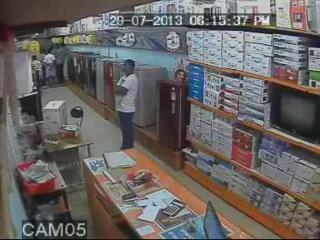Normal: (268, 86, 320, 146), (112, 59, 139, 151), (43, 50, 57, 86)
